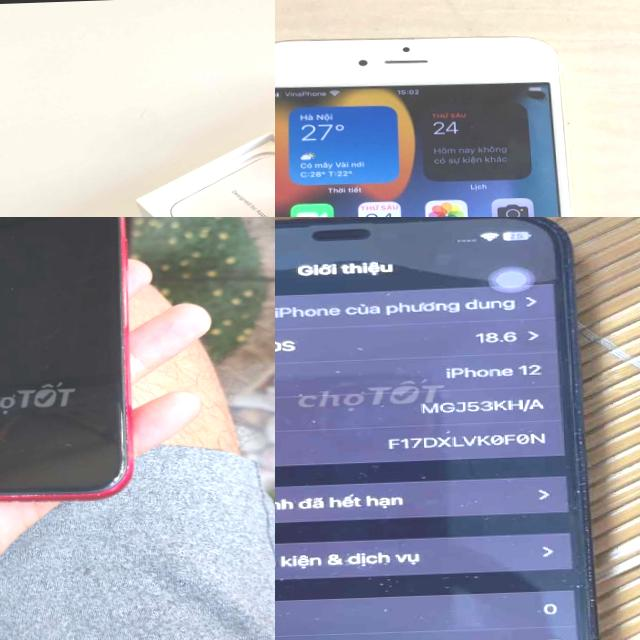gen_12_13: (275, 217, 607, 640)
gen_6: (275, 23, 600, 217)
gen_x_xs: (0, 217, 131, 499), (0, 217, 130, 497)
